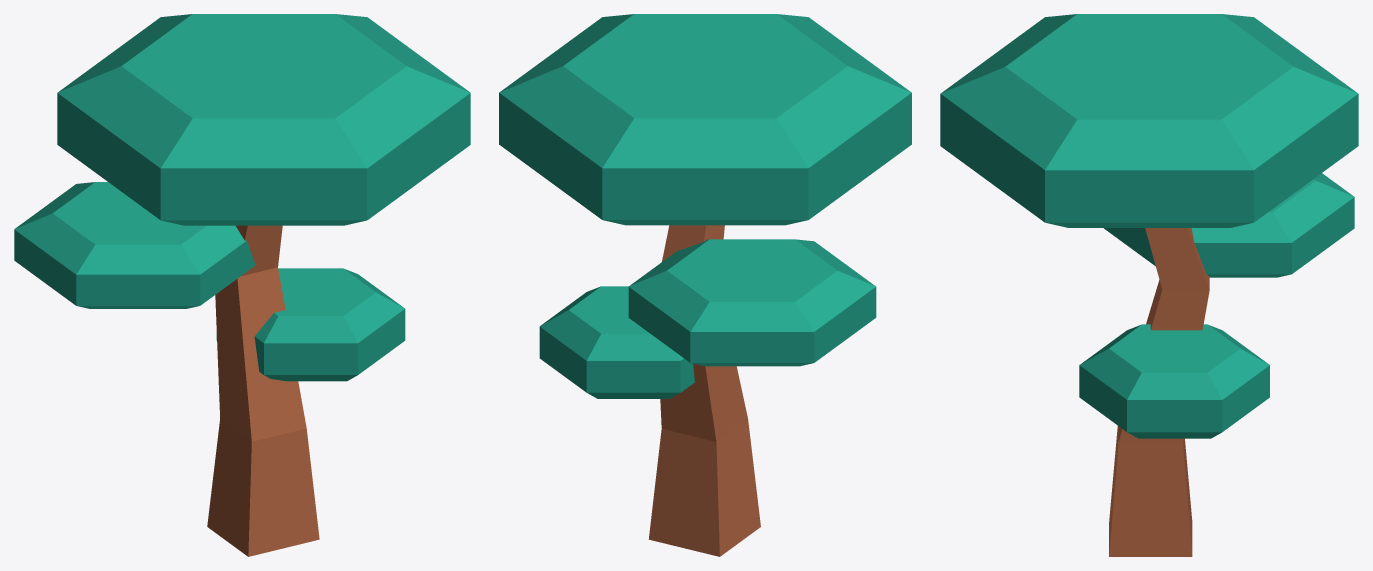
The model's file is tree-da.glb.
3 views of the same model, side by side, from view 1: azimuth 30°, elevation 25°; view 2: azimuth 150°, elevation 25°; view 3: azimuth 270°, elevation 25° (orthographic).
Visible parts, largest first — view 1: tree; view 2: tree; view 3: tree.
Part boxes in pixels (x1,y1,x2,y2): tree: (14, 14, 470, 556); tree: (499, 14, 911, 556); tree: (940, 14, 1358, 556).
Bounding box in the file's own units: 0.7953 × 1.06 × 0.8514.
